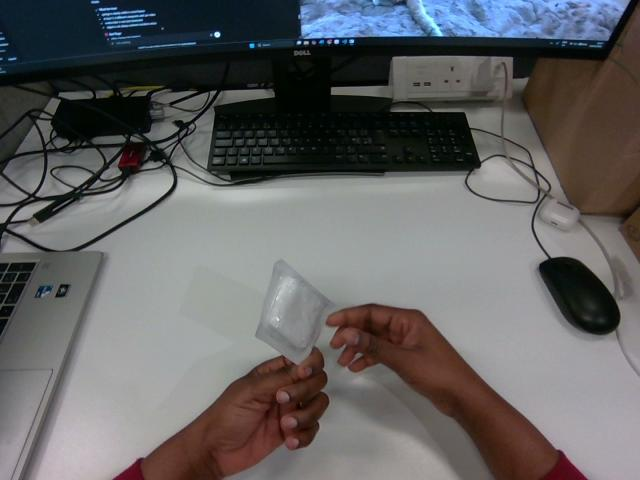gauze: (256, 260, 335, 363)
